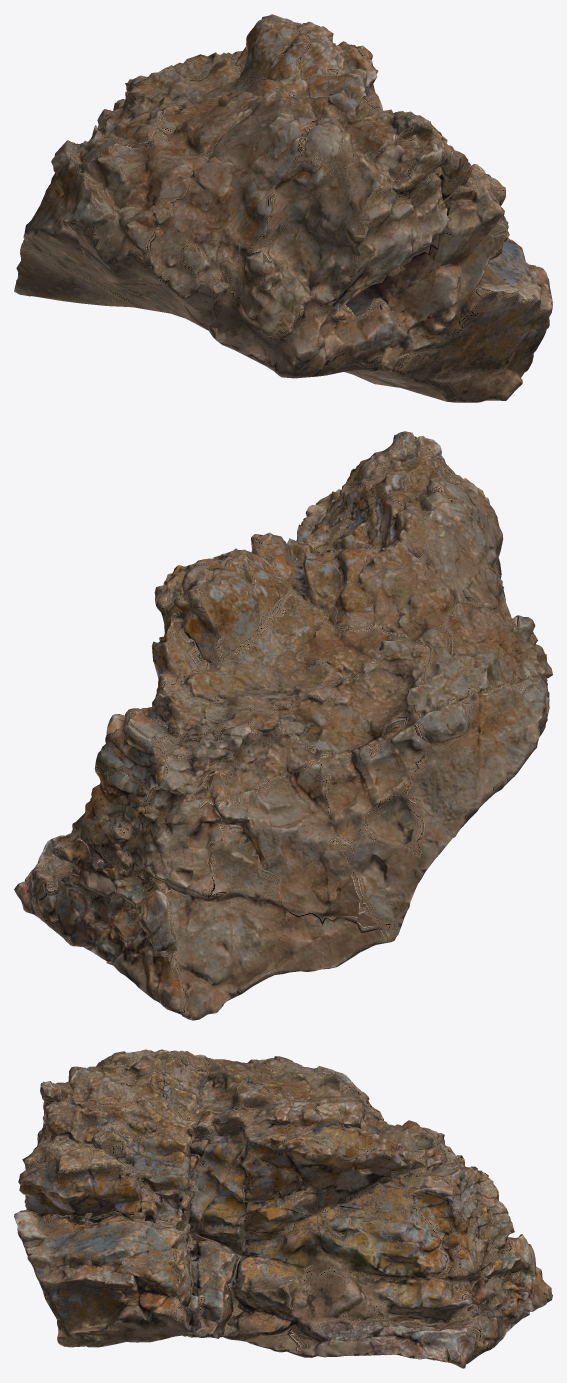
Rendered from boulder.glb.
The picture shows the model from 3 angles, top to bottom: view 1: azimuth 30°, elevation 25°; view 2: azimuth 150°, elevation 25°; view 3: azimuth 270°, elevation 25°; orthographic projection. The views are drawn at different scales.
Visible parts, largest first — view 1: boulder_01; view 2: boulder_01; view 3: boulder_01.
Boxes of the visible parts, bbox=[...] form: boulder_01: bbox=[14, 14, 552, 402]; boulder_01: bbox=[14, 431, 552, 1020]; boulder_01: bbox=[14, 1049, 552, 1368].
Bounding box in the file's own units: 1.39 × 1.1 × 2.
1 material, 1 textured.
